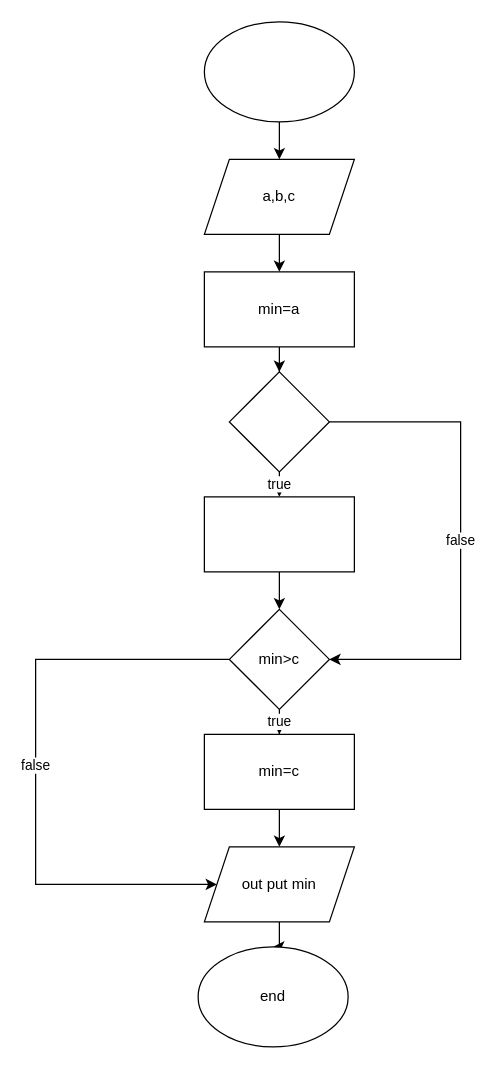
The diagram is 496 pixels wide and 1069 high, and some of its shapes have lost their labels. The shapes that lost their labels are listed below. From the top down, each one's box as (x1, y1, x2, y2) in pixels, then its label:
(203, 21, 354, 122): start
(228, 371, 329, 472): min>b
(203, 496, 354, 572): min=b
